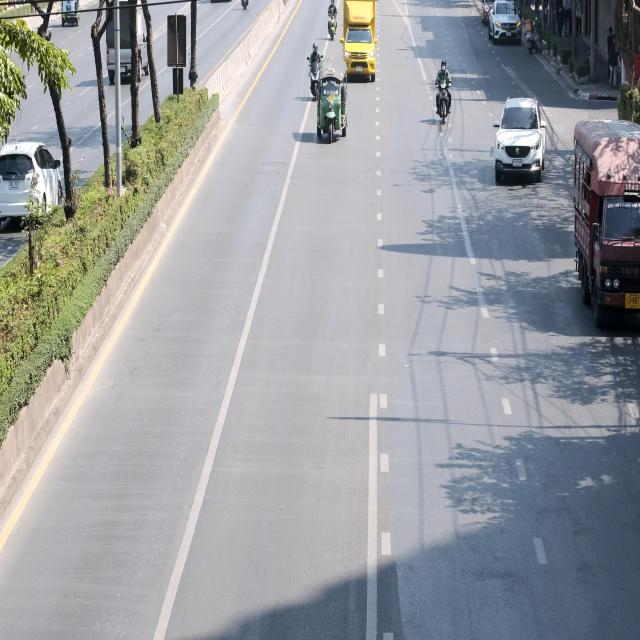cars: (0, 142, 68, 228), (490, 93, 546, 190), (491, 3, 520, 42), (479, 0, 500, 27)
motorcycle: (434, 52, 452, 128), (520, 16, 544, 64), (306, 42, 324, 104), (328, 0, 342, 43), (239, 0, 254, 13)
tricycle: (317, 64, 346, 160)
